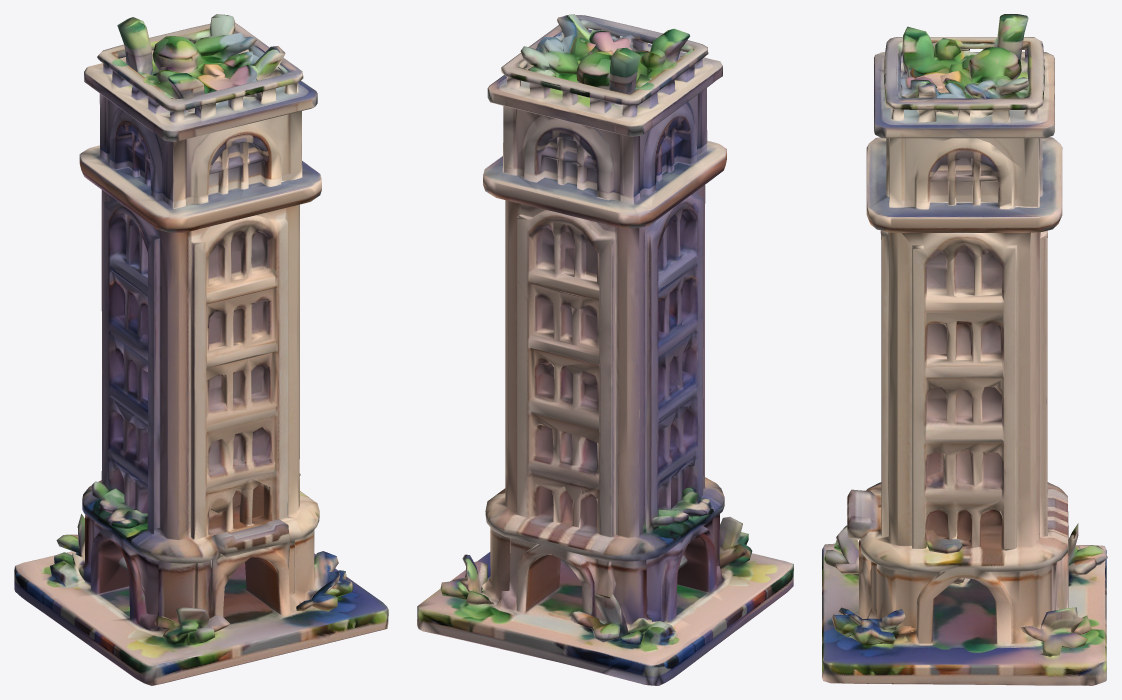
Rendered from books.glb.
The picture shows the model from 3 angles, left to right: view 1: azimuth 30°, elevation 25°; view 2: azimuth 150°, elevation 25°; view 3: azimuth 270°, elevation 25°; orthographic projection.
Visible parts, largest first — view 1: tripo_node_0126388c-9017-4962-a9fa-8fa176c1ecc4; view 2: tripo_node_0126388c-9017-4962-a9fa-8fa176c1ecc4; view 3: tripo_node_0126388c-9017-4962-a9fa-8fa176c1ecc4.
Boxes of the visible parts, x1=… form: tripo_node_0126388c-9017-4962-a9fa-8fa176c1ecc4: x1=14, y1=14, x2=388, y2=685; tripo_node_0126388c-9017-4962-a9fa-8fa176c1ecc4: x1=417, y1=14, x2=793, y2=685; tripo_node_0126388c-9017-4962-a9fa-8fa176c1ecc4: x1=822, y1=14, x2=1107, y2=685.
Bounding box in the file's own units: 0.4465 × 1 × 0.4399.
1 material, 1 textured.
